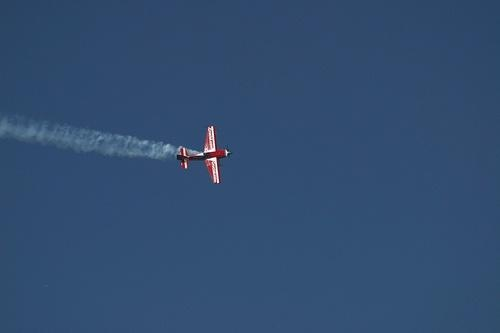aeroplane: (172, 126, 235, 187)
